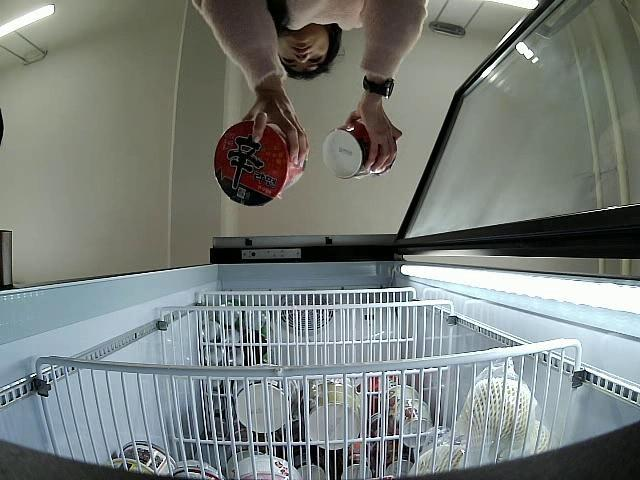01_ShinRamen_L: (210, 118, 310, 208), (322, 118, 398, 180)
